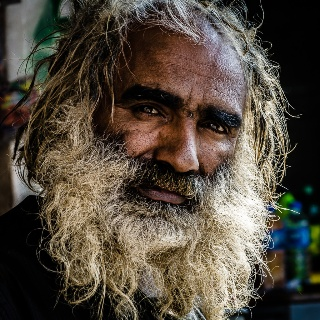without_mask: (90, 19, 248, 214)
